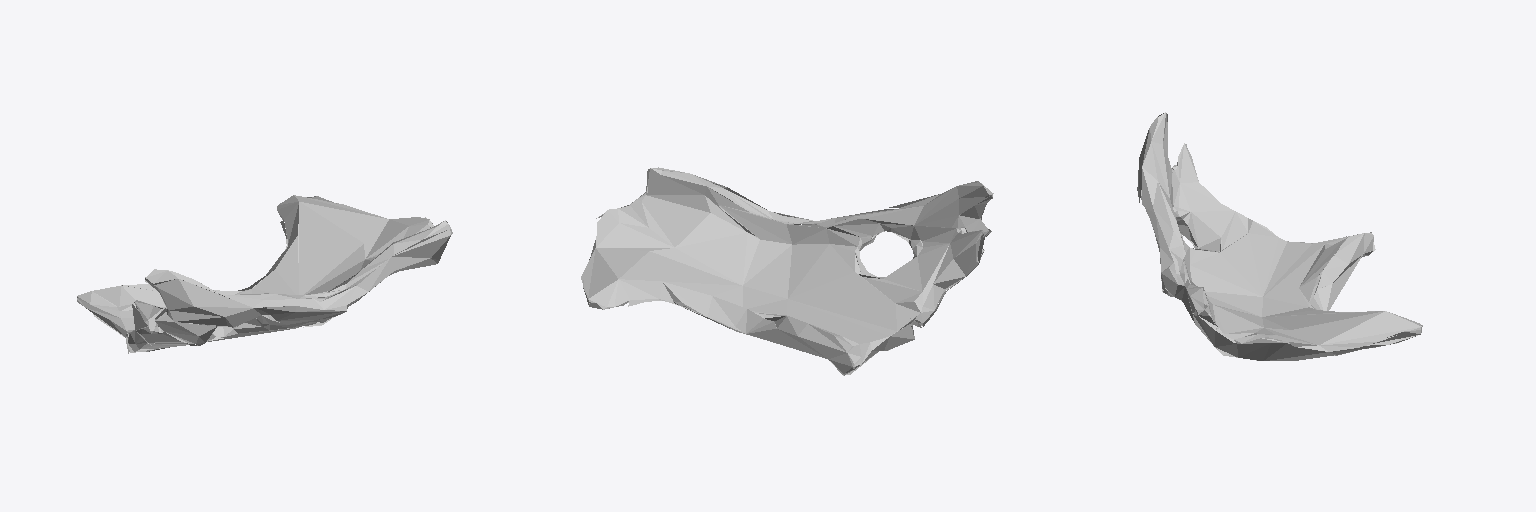
Rendered from flexor retinaculum of right wrist.obj.
3 renders of one model, left to right at view 1: azimuth 30°, elevation 25°; view 2: azimuth 150°, elevation 25°; view 3: azimuth 270°, elevation 25°, orthographic.
Parts seen in each view (by area): view 1: grp1; view 2: grp1; view 3: grp1.
Part boxes in pixels (x1,y1,x2,y2): grp1: (77, 195, 452, 353); grp1: (581, 167, 993, 375); grp1: (1137, 112, 1422, 360).
Size of the model in its own units: 37.27 by 13.97 by 26.95.